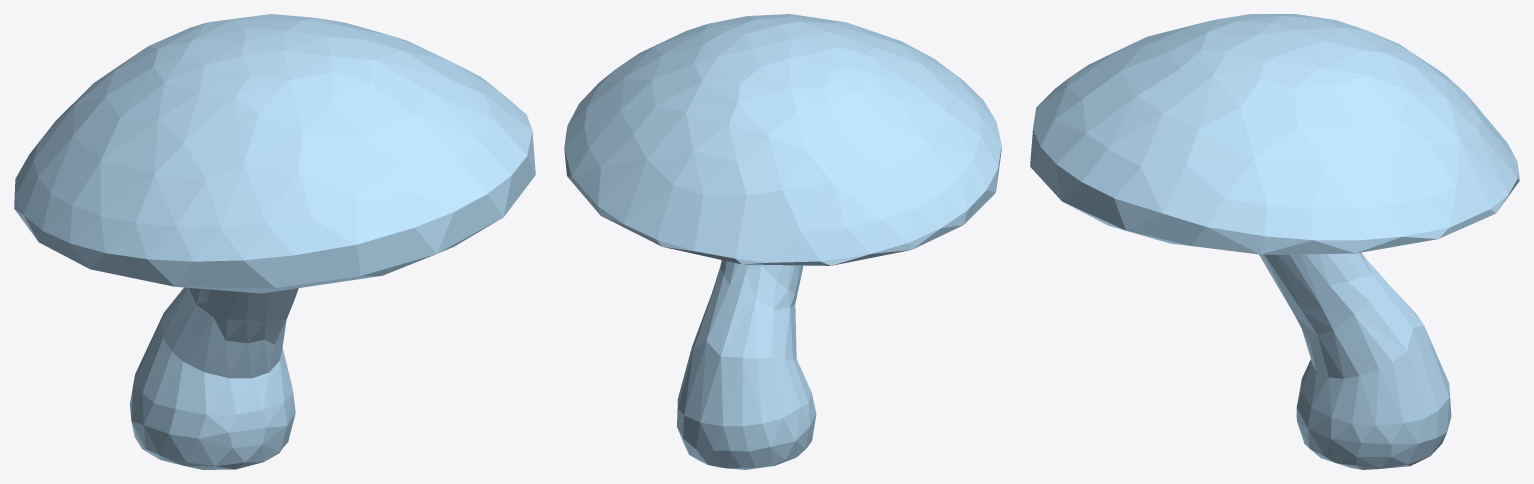
The model's file is shroom.fbx.
3 views of the same model, side by side, from view 1: azimuth 30°, elevation 25°; view 2: azimuth 150°, elevation 25°; view 3: azimuth 270°, elevation 25° (orthographic). The views are drawn at different scales.
Parts seen in each view (by area): view 1: Cylinder; view 2: Cylinder; view 3: Cylinder.
Part boxes in pixels (bbox=[...]): Cylinder: bbox=[14, 14, 535, 469]; Cylinder: bbox=[564, 14, 1001, 469]; Cylinder: bbox=[1030, 14, 1519, 469].
Bounding box in the file's own units: 556 × 518 × 555.
1 material, 1 textured.
